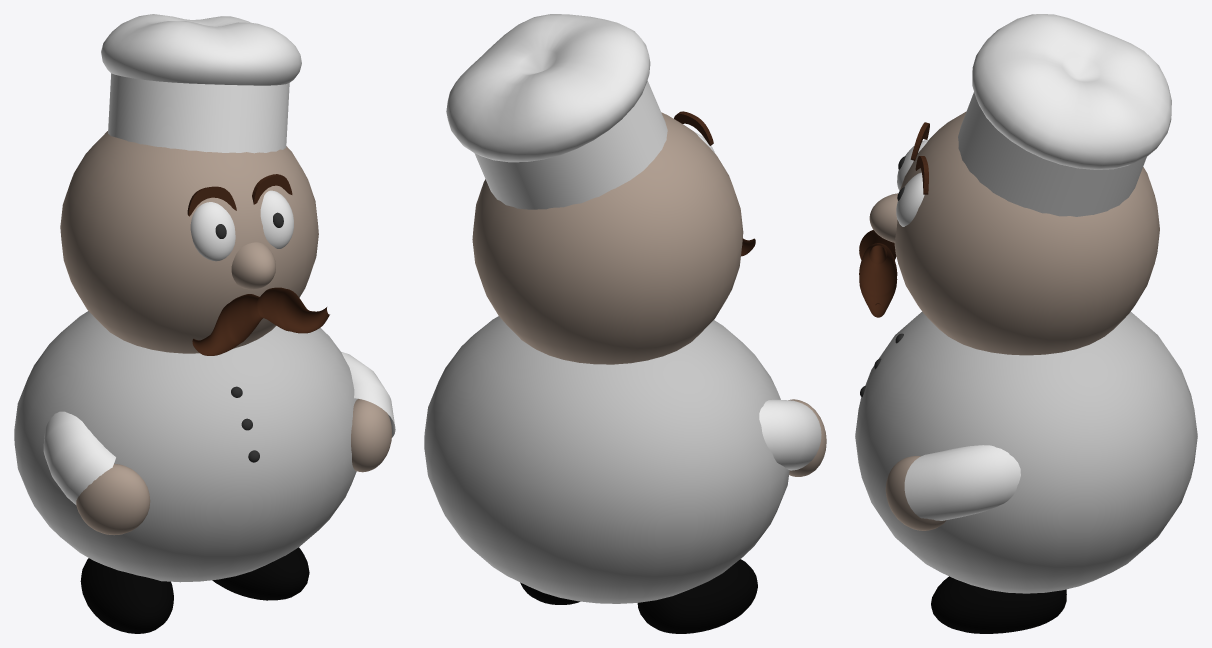
Rendered from ChefAnimation.fbx.
The picture shows the model from 3 angles, left to right: view 1: azimuth 30°, elevation 25°; view 2: azimuth 150°, elevation 25°; view 3: azimuth 270°, elevation 25°; orthographic projection. The views are drawn at different scales.
Parts seen in each view (by area): view 1: Body, Head, nurbsCylinder1, nurbsSphere3, RightShoe, RightArm, RightHand, LeftShoe, LeftHand, loftedSurface2, loftedSurface1, nurbsSphere5 (+5 smaller); view 2: Body, Head, nurbsSphere3, nurbsCylinder1, RightShoe, RightArm, RightHand; view 3: Body, Head, nurbsSphere3, nurbsCylinder1, LeftArm, LeftShoe, loftedSurface1, LeftHand, Nose, nurbsSphere6, loftedSurface2.
Boxes of the visible parts, <box> form: Body: <box>14,311,358,582</box>; Head: <box>60,131,318,353</box>; nurbsCylinder1: <box>108,73,289,153</box>; nurbsSphere3: <box>101,14,301,85</box>; RightShoe: <box>80,558,173,633</box>; RightArm: <box>43,411,115,504</box>; RightHand: <box>76,463,150,535</box>; LeftShoe: <box>212,547,309,600</box>; LeftHand: <box>351,399,391,472</box>; loftedSurface2: <box>192,294,262,355</box>; loftedSurface1: <box>257,287,329,333</box>; nurbsSphere5: <box>190,202,235,261</box>; Body: <box>424,316,789,603</box>; Head: <box>472,112,743,364</box>; nurbsSphere3: <box>446,14,650,162</box>; nurbsCylinder1: <box>474,80,667,209</box>; RightShoe: <box>637,559,757,633</box>; RightArm: <box>759,399,821,470</box>; RightHand: <box>788,399,826,476</box>; Body: <box>855,312,1197,593</box>; Head: <box>894,111,1159,355</box>; nurbsSphere3: <box>972,14,1171,169</box>; nurbsCylinder1: <box>958,92,1146,216</box>; LeftArm: <box>904,445,1020,520</box>; LeftShoe: <box>931,576,1066,633</box>; loftedSurface1: <box>859,243,897,317</box>; LeftHand: <box>885,456,946,530</box>; Nose: <box>869,193,898,242</box>; nurbsSphere6: <box>896,172,924,226</box>; loftedSurface2: <box>859,230,896,264</box>.
Size of the model in its own units: 255 by 419 by 225.
